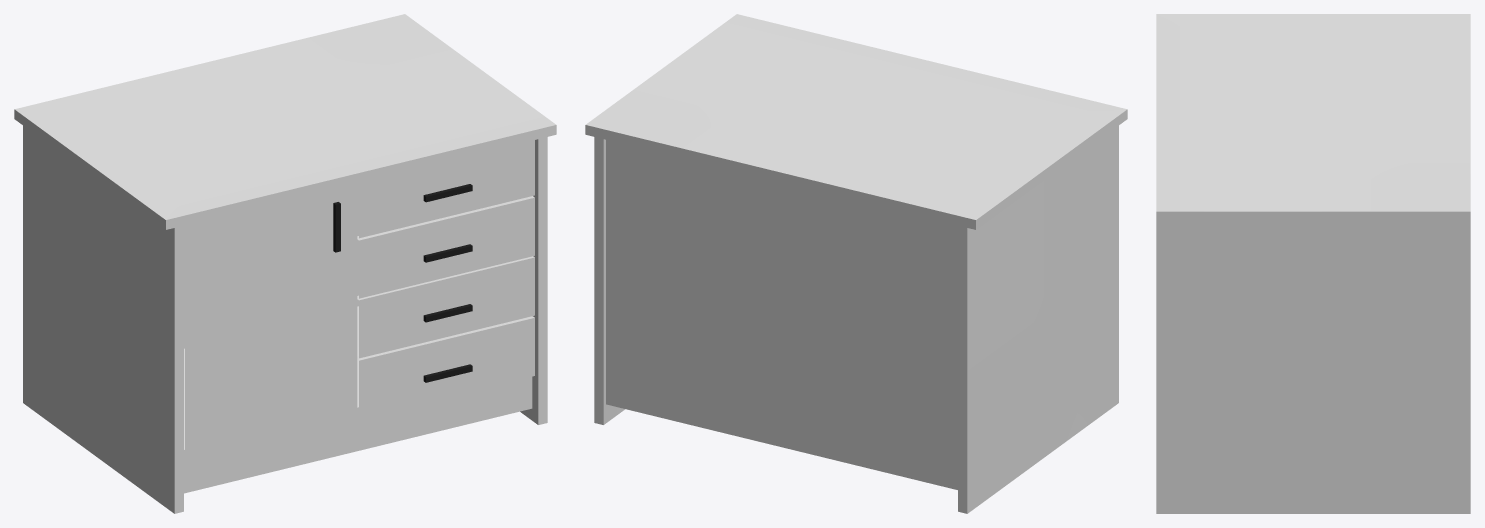
File: shelf_052.glb
3 views of the same model, side by side, from view 1: azimuth 30°, elevation 25°; view 2: azimuth 150°, elevation 25°; view 3: azimuth 270°, elevation 25° (orthographic). The views are drawn at different scales.
Parts seen in each view (by area): view 1: shelf_052; view 2: shelf_052; view 3: shelf_052.
Boxes of the visible parts, <box> form: shelf_052: <box>14,14,556,513</box>; shelf_052: <box>585,14,1127,513</box>; shelf_052: <box>1156,14,1470,513</box>.
Bounding box in the file's own units: 0.9099 × 0.6587 × 0.611.
1 material, 1 textured.
